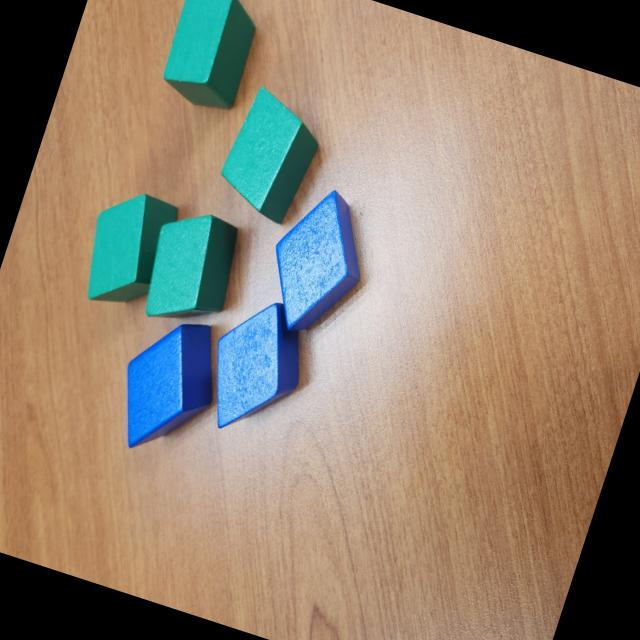blue: (252, 178, 384, 350), (103, 306, 234, 468), (192, 287, 321, 448)
green: (210, 81, 332, 229), (134, 199, 251, 338), (70, 181, 182, 319), (153, 0, 267, 117)
